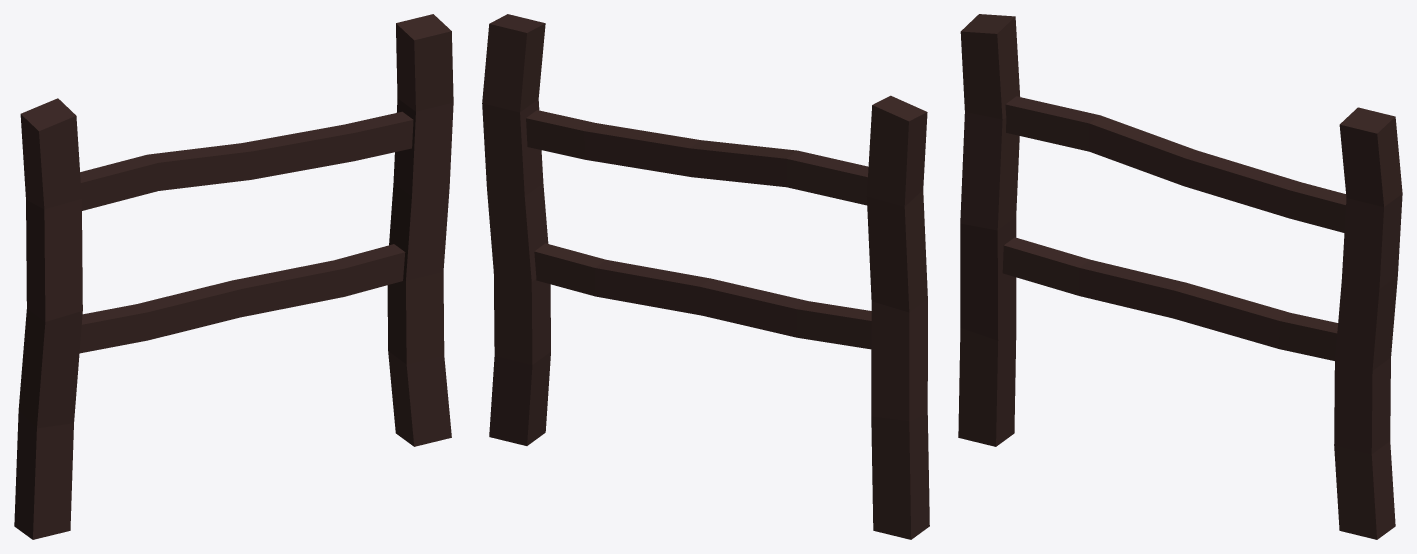
Rendered from fence_short2.fbx.
3 renders of one model, left to right at view 1: azimuth 30°, elevation 25°; view 2: azimuth 150°, elevation 25°; view 3: azimuth 330°, elevation 25°, orthographic.
Parts seen in each view (by area): view 1: fence_s2; view 2: fence_s2; view 3: fence_s2.
Boxes of the visible parts, box(x1,y1,x2,y2) form: fence_s2: box(14, 14, 453, 539); fence_s2: box(482, 14, 929, 539); fence_s2: box(958, 14, 1402, 539).
Bounding box in the file's own units: 1.02 × 0.9692 × 0.1107.
